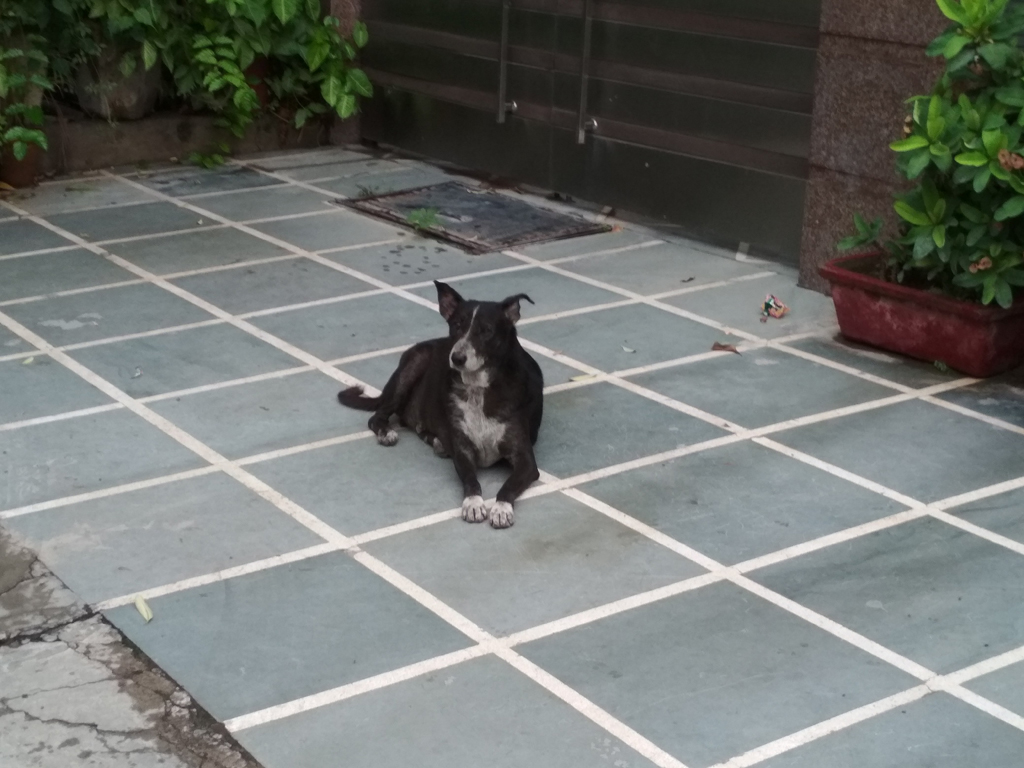dog: (338, 277, 545, 528)
